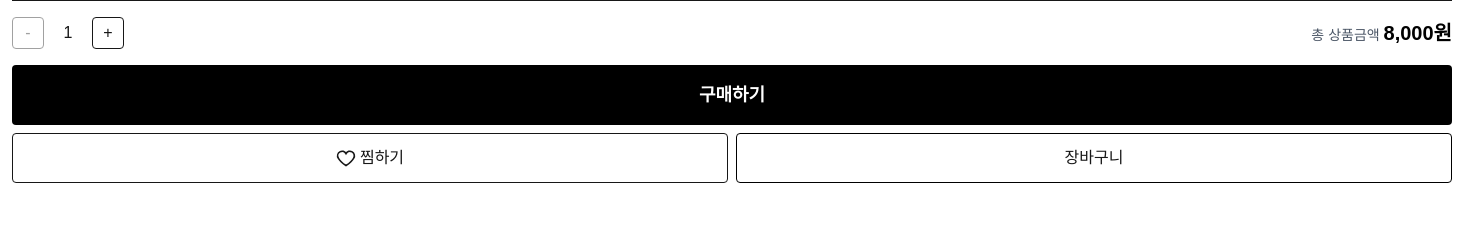
AddToCartForm 버튼 › 성공: 장바구니는 담고 안내 메시지를 보여주며 이동하지 않는다
The width and height of the screenshot is (1464, 234).
Click the button "장바구니": point(1094, 158) [736, 133, 1452, 183]
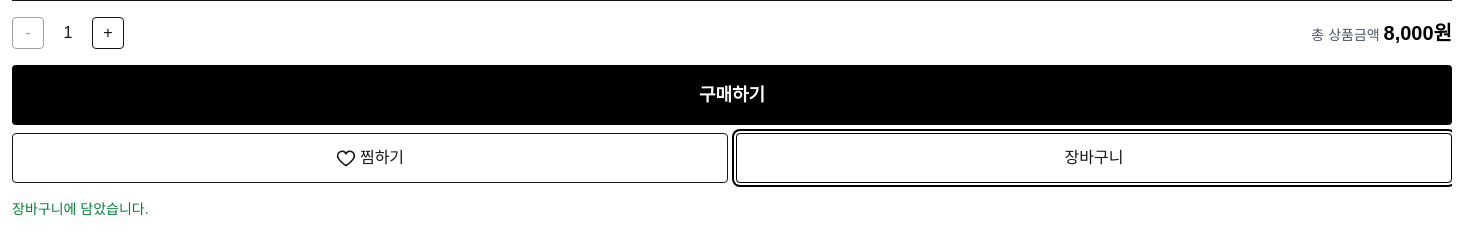
Expected: the message reads "장바구니에 담았습니다.", [12, 201, 149, 217]
